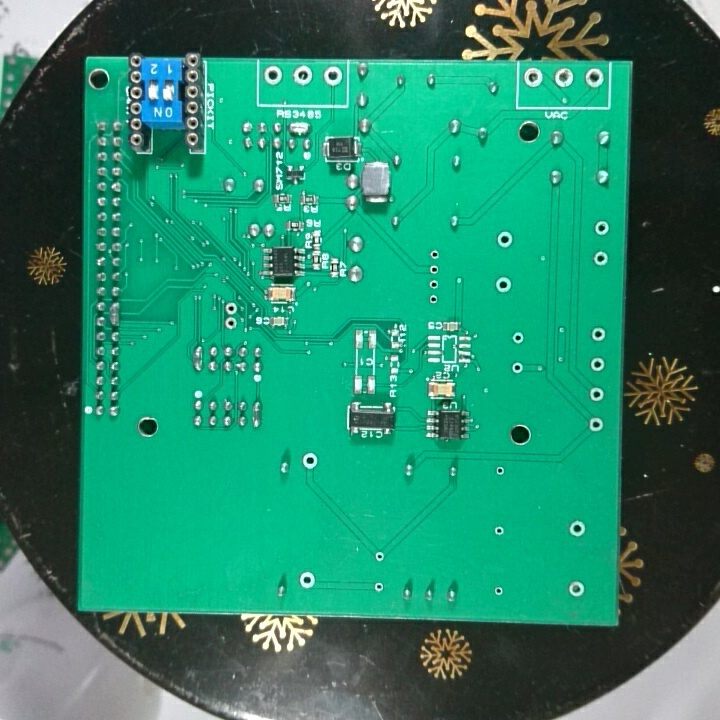F: (564, 518, 588, 543), (261, 63, 284, 89), (321, 64, 343, 89), (291, 63, 313, 87), (299, 448, 320, 473), (553, 65, 574, 89), (522, 66, 543, 89), (585, 66, 604, 91), (494, 230, 515, 252), (297, 569, 317, 591), (585, 415, 607, 435), (567, 578, 587, 599), (588, 324, 608, 344), (588, 384, 607, 405), (493, 275, 514, 294), (588, 355, 607, 375), (591, 249, 610, 269), (593, 218, 611, 237), (491, 460, 508, 479), (371, 578, 388, 596), (425, 246, 443, 263), (510, 329, 527, 347), (426, 275, 442, 293), (491, 583, 507, 600), (222, 315, 237, 331), (427, 262, 442, 278), (426, 292, 441, 308), (510, 360, 525, 376), (371, 548, 385, 565), (492, 523, 506, 539), (223, 301, 239, 315)
P: (248, 396, 264, 432), (285, 119, 312, 138), (108, 300, 122, 329), (190, 345, 203, 372)
